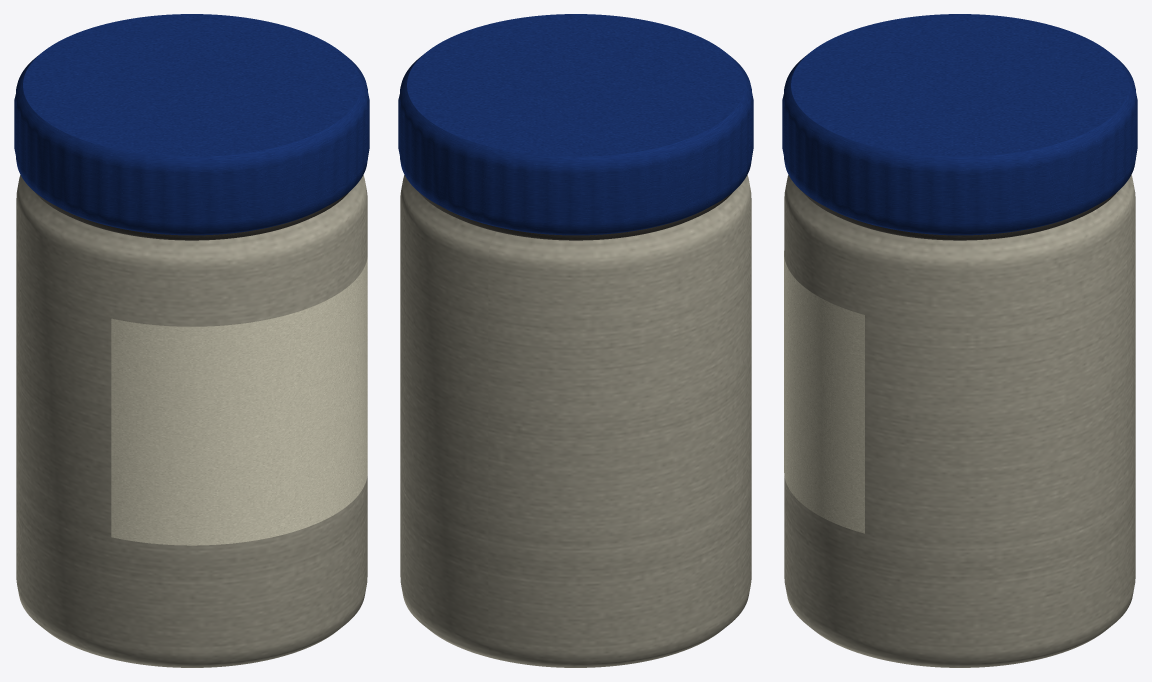
The model's file is SampleCanister.glb.
3 views of the same model, side by side, from view 1: azimuth 30°, elevation 25°; view 2: azimuth 150°, elevation 25°; view 3: azimuth 270°, elevation 25° (orthographic).
Visible parts, largest first — view 1: SampleCanister; view 2: SampleCanister; view 3: SampleCanister.
Part boxes in pixels (x1,y1,x2,y2): SampleCanister: (14, 14, 369, 667); SampleCanister: (398, 14, 753, 667); SampleCanister: (782, 14, 1137, 667).
Size of the model in its own units: 0.0809 by 0.13 by 0.0809.
Materials: 1 (1 with a texture image).
